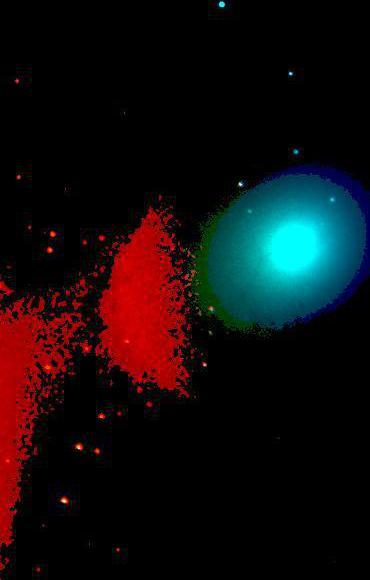star: (104, 395, 134, 425)
